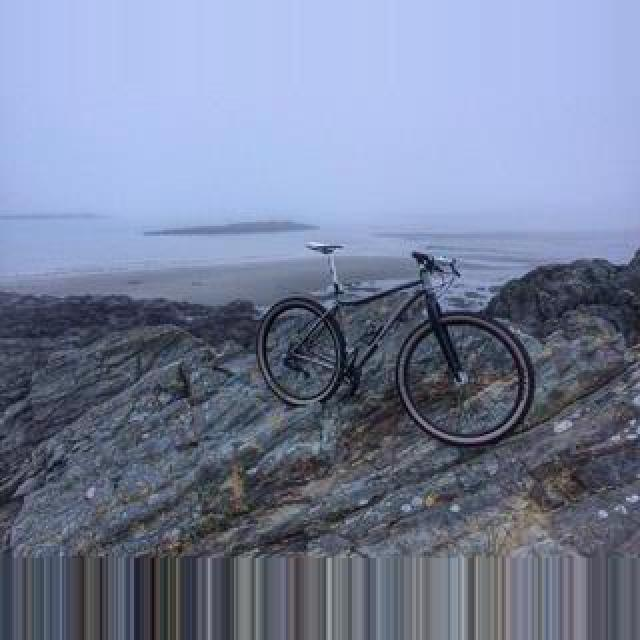Person: (254, 241, 532, 445)
